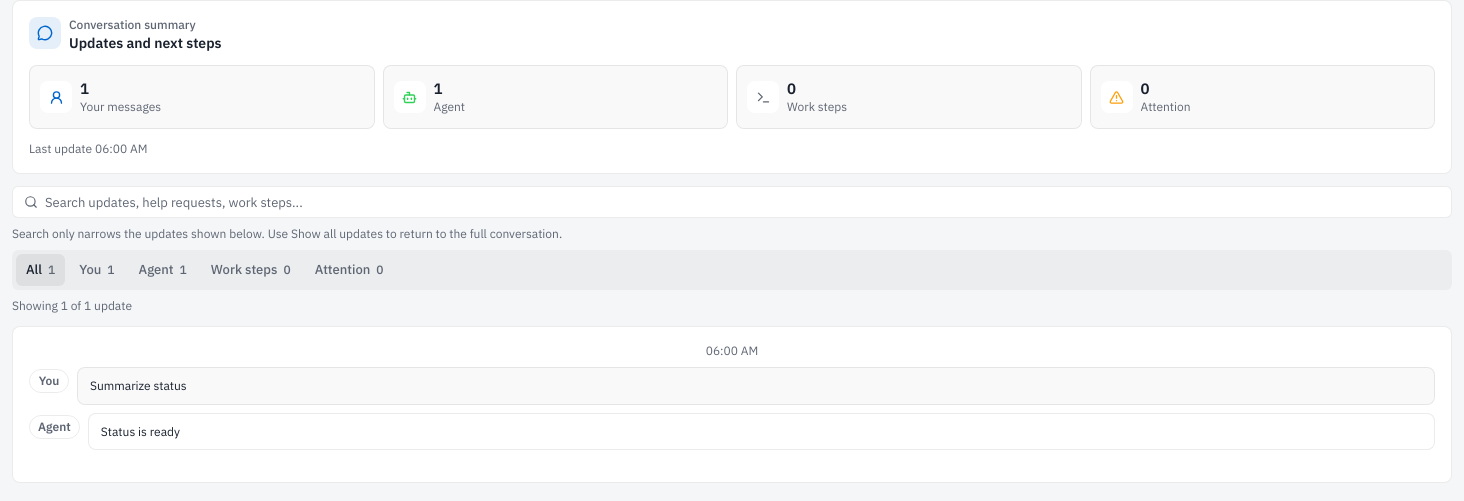
Test: ChatView › explains empty project-file work steps with a concrete Task path
The image size is (1464, 501).
Click the button with aria-label "show work steps, 0 matching updates" at (251, 270), box [201, 254, 301, 286]
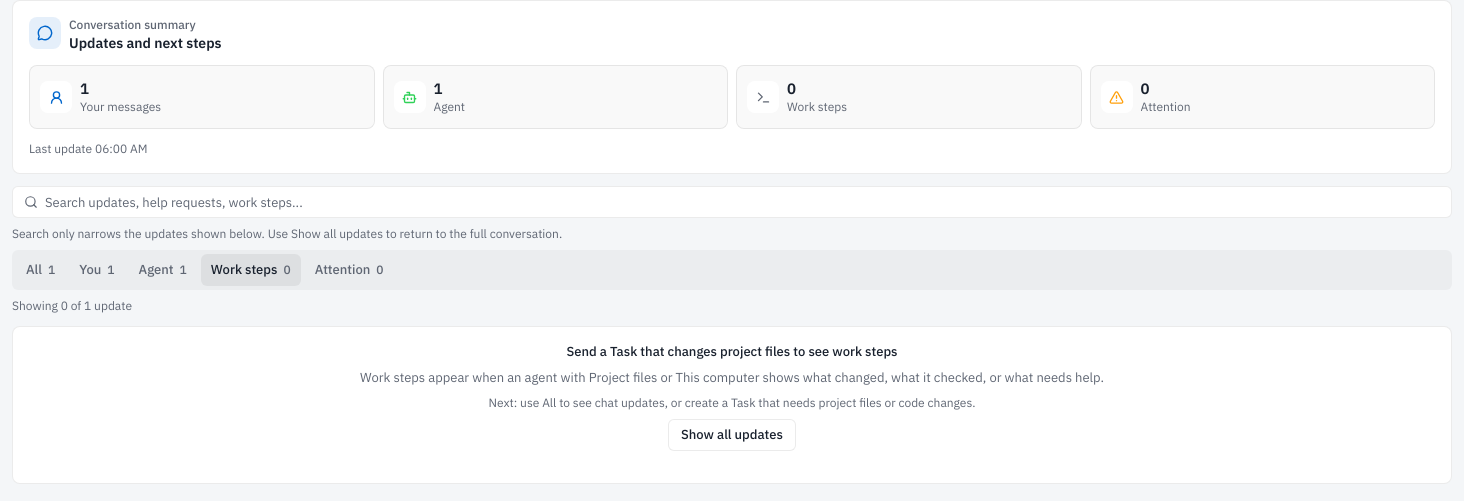
Check: the message with test id "conversation-filter-empty" shows "Send a Task that changes project files to see work steps", box [566, 343, 898, 360]
Check: the message with test id "conversation-filter-empty" shows "Work steps appear when an agent with Project files or This computer shows what changed, what it checked, or what needs help.", box [360, 369, 1104, 386]
Check: the message with test id "conversation-filter-empty" shows "Next: use All to see chat updates, or create a Task that needs project files or code changes.", box [488, 395, 976, 410]
